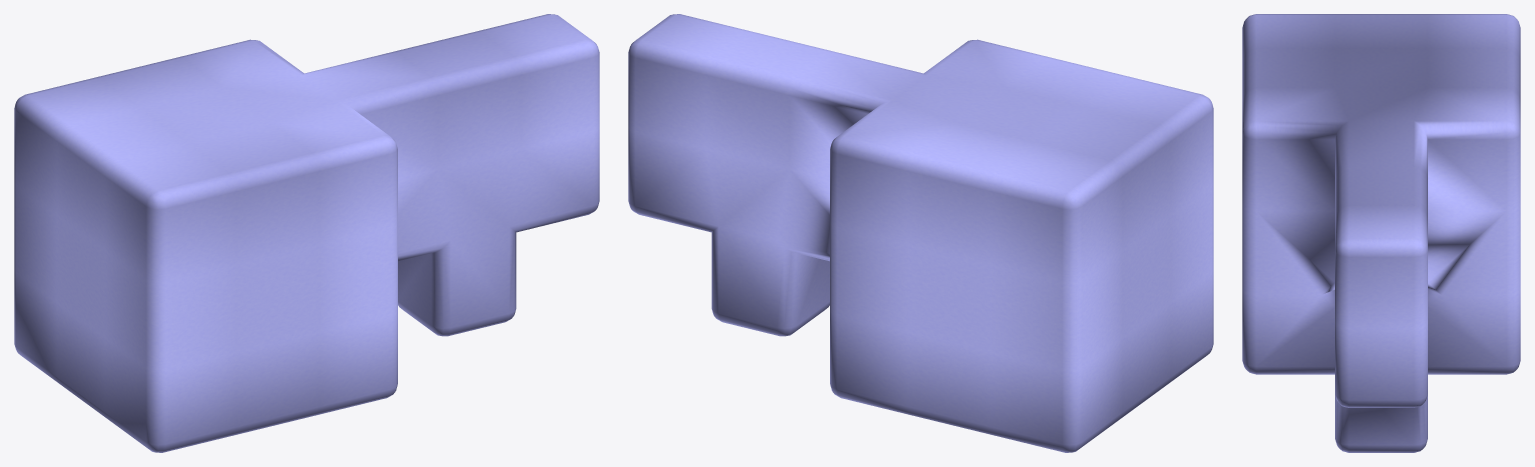
The model's file is __clay_block_09_33.obj.
3 views of the same model, side by side, from view 1: azimuth 30°, elevation 25°; view 2: azimuth 150°, elevation 25°; view 3: azimuth 270°, elevation 25° (orthographic). The views are drawn at different scales.
Parts seen in each view (by area): view 1: clay_block_33; view 2: clay_block_33; view 3: clay_block_33.
Boxes of the visible parts, x1,y1,x2,y2 form: clay_block_33: (14, 14, 599, 452); clay_block_33: (628, 14, 1213, 452); clay_block_33: (1242, 14, 1520, 452).
Bounding box in the file's own units: 6 × 3 × 3.
1 material, 1 textured.
